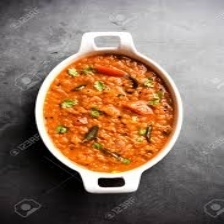sabzi: (39, 45, 179, 175)
